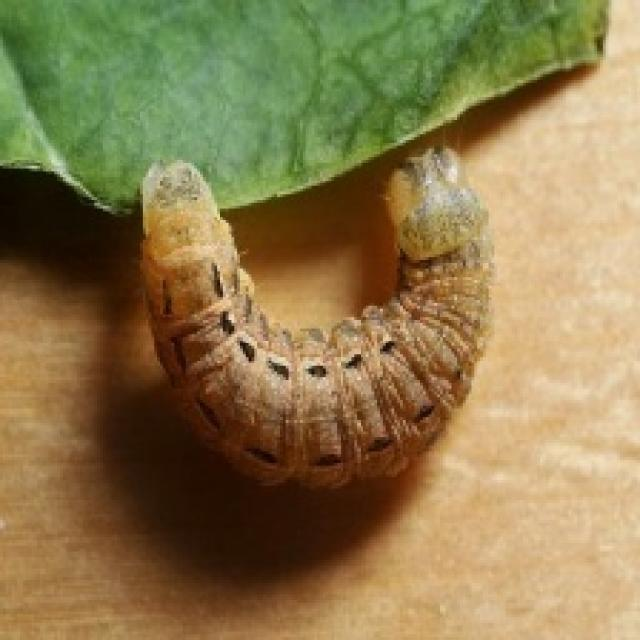Plaga: (127, 135, 504, 504)
